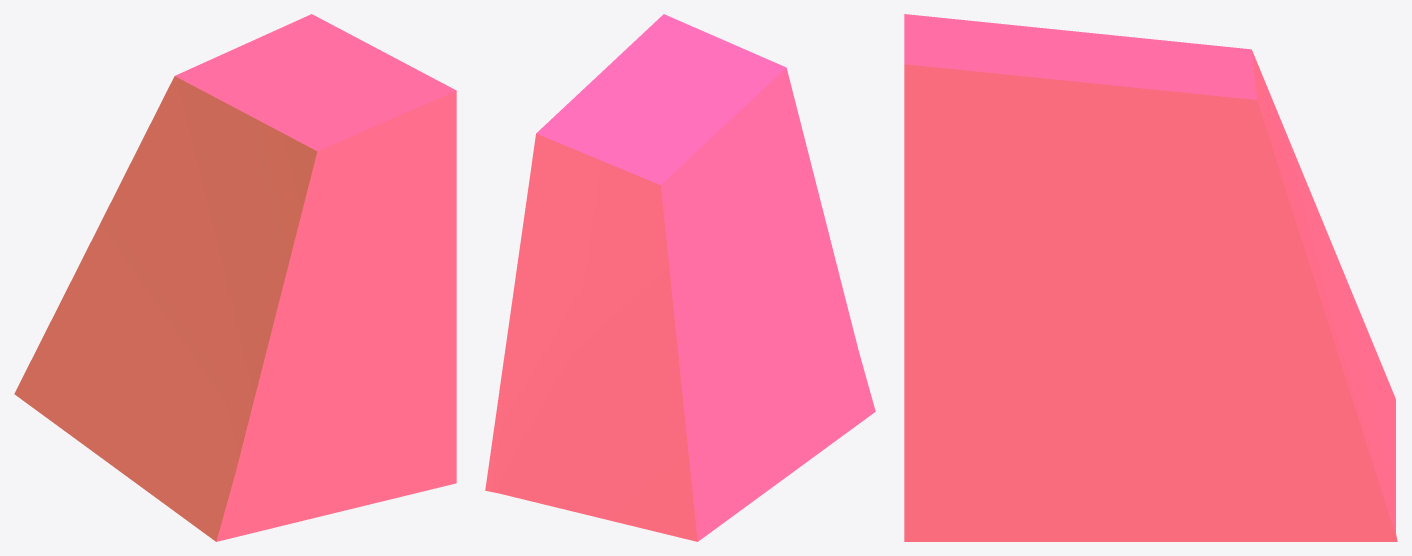
File: chunk-p2.fbx
3 renders of one model, left to right at view 1: azimuth 30°, elevation 25°; view 2: azimuth 150°, elevation 25°; view 3: azimuth 270°, elevation 25°, orthographic. The views are drawn at different scales.
Parts seen in each view (by area): view 1: pCube14; view 2: pCube14; view 3: pCube14.
Part boxes in pixels (x1=…): pCube14: x1=14, y1=14, x2=456, y2=541; pCube14: x1=485, y1=14, x2=875, y2=541; pCube14: x1=904, y1=14, x2=1397, y2=541.
Bounding box in the file's own units: 2.64 × 4.11 × 3.85.
